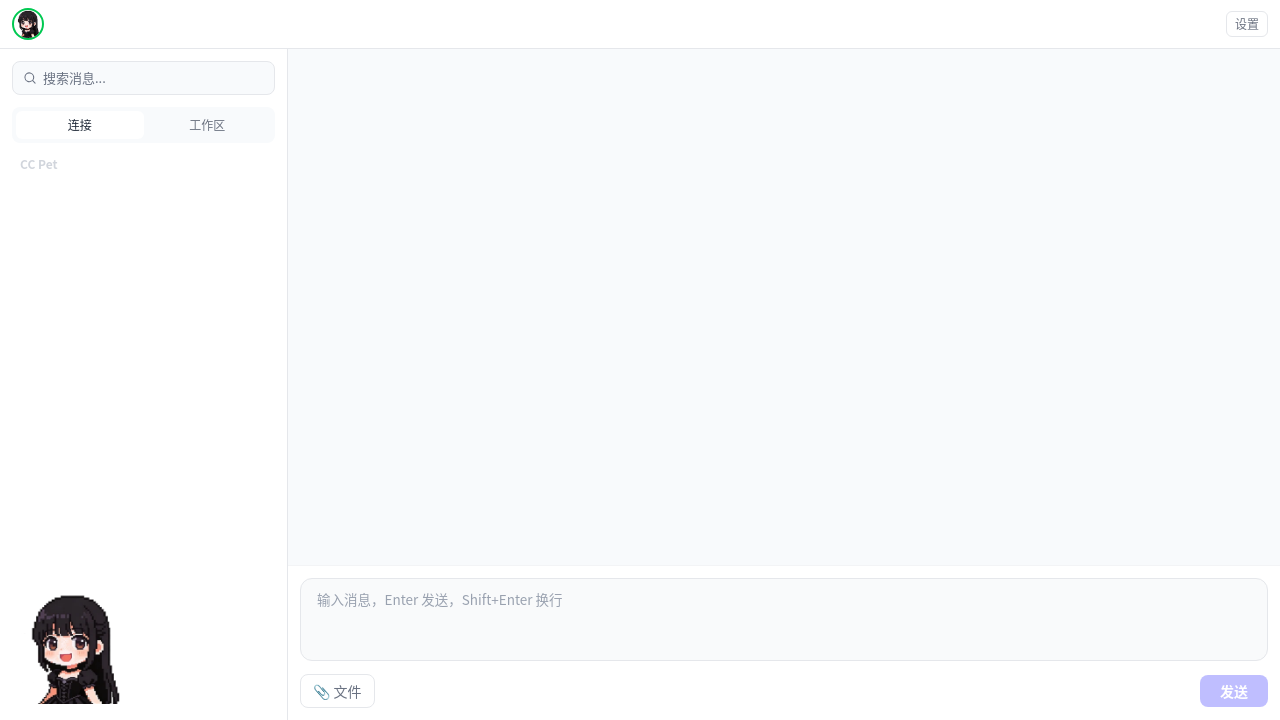
App integration › shows slash palette with bridge skill commands after skills_updated
Step 1. Type "/" into the text box with placeholder "输入消息，Enter 发送，Shift+Enter 换行" → (784, 620), box [300,578,1268,661]
(page scrolled)
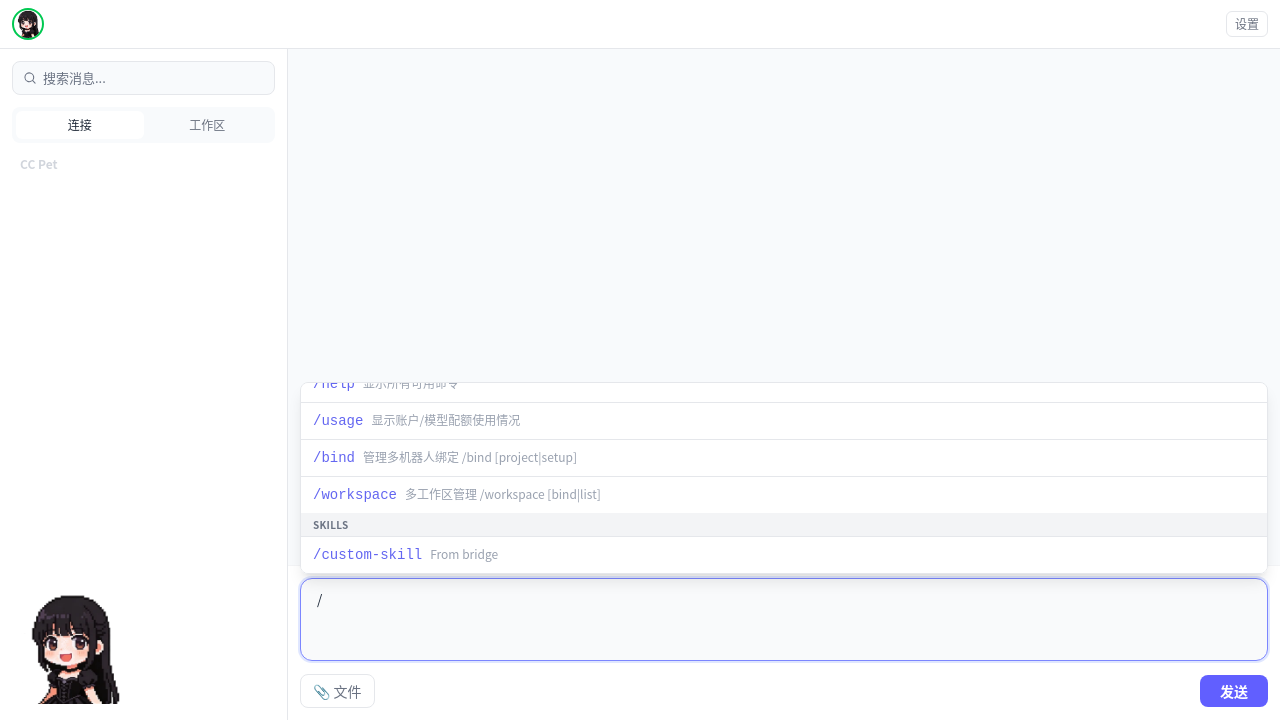
expect the element with test id "slash-command-menu" is shown: met, box [300,382,1268,574]
expect the text "/custom-skill" is shown: met, box [313,545,422,565]
expect the text "From bridge" is shown: met, box [430,546,498,562]
